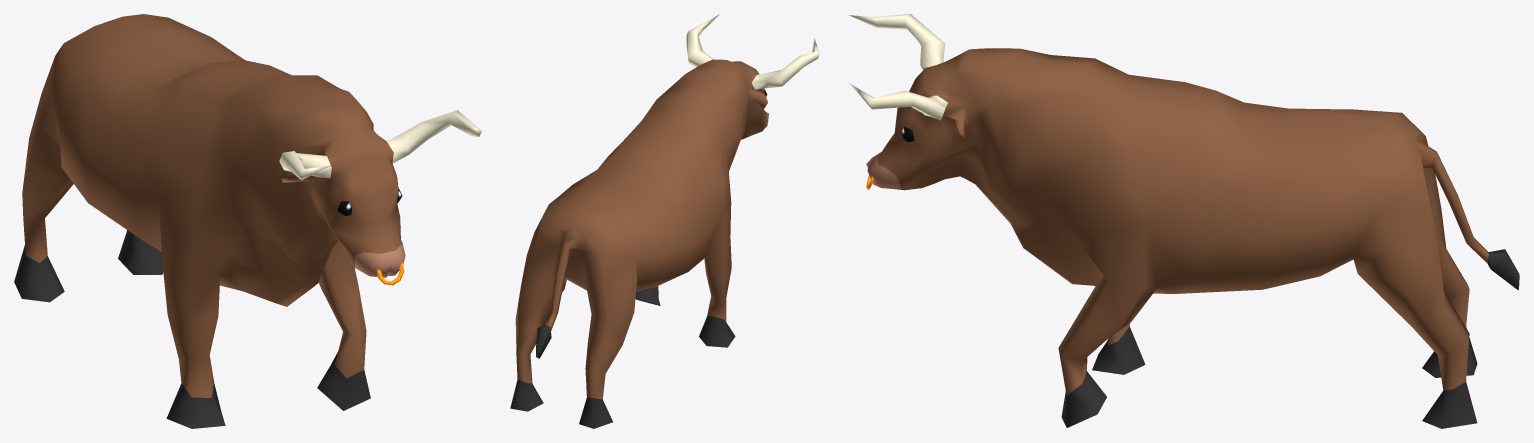
The picture shows the model from 3 angles, left to right: view 1: azimuth 30°, elevation 25°; view 2: azimuth 150°, elevation 25°; view 3: azimuth 270°, elevation 25°; orthographic projection. The views are drawn at different scales.
Parts seen in each view (by area): view 1: Bull; view 2: Bull; view 3: Bull.
Boxes of the visible parts, bbox=[...] form: Bull: bbox=[14, 14, 481, 428]; Bull: bbox=[510, 14, 819, 428]; Bull: bbox=[848, 14, 1519, 428].
Size of what is drawn, in the model's own units: 0.9551 by 1.66 by 2.93.
Materials: 3 (3 with a texture image).
